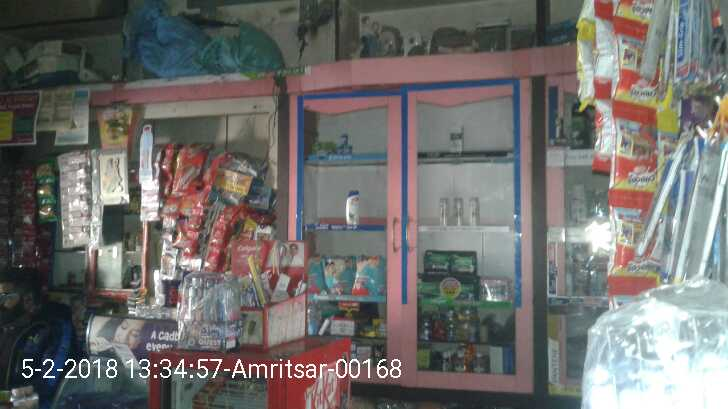oralcare: (178, 272, 242, 332)
vicks: (331, 133, 352, 154)
